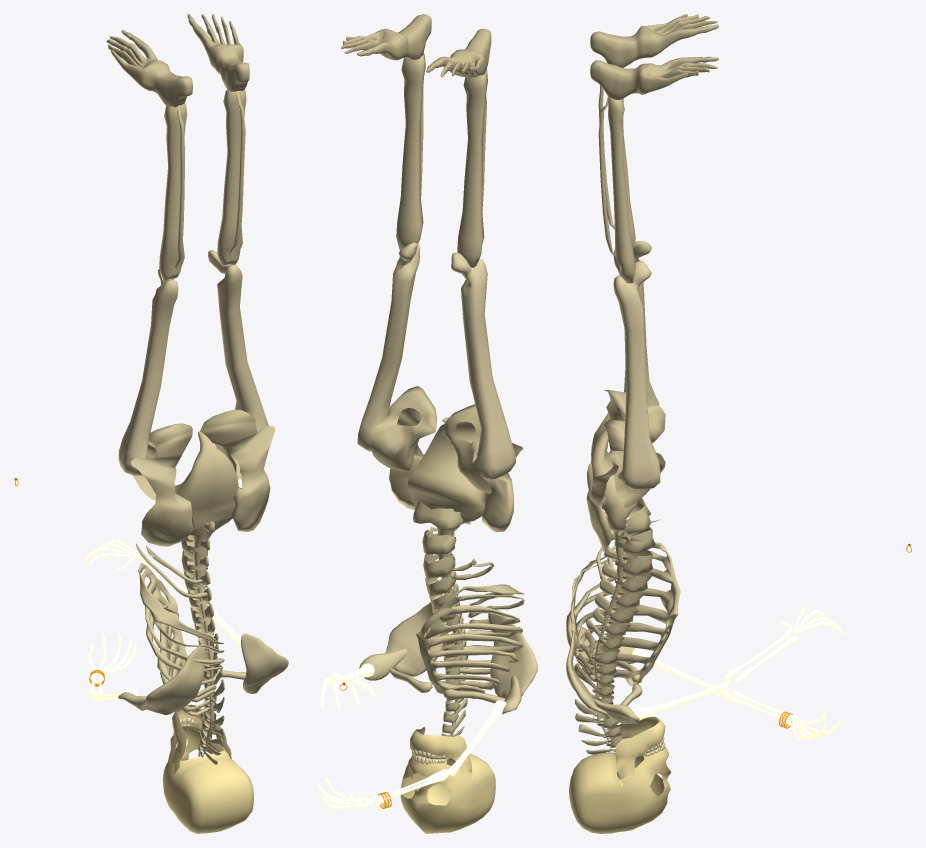
The model's file is skullwoEarth.gltf.
The picture shows the model from 3 angles, left to right: view 1: azimuth 30°, elevation 25°; view 2: azimuth 150°, elevation 25°; view 3: azimuth 270°, elevation 25°; orthographic projection. The views are drawn at different scales.
Parts seen in each view (by area): view 1: Ilium, Femur, Skull, Tibia, Feet, Rib Cage, spine, Clavicle And Shoulder, Spine2, Cubo.027, Cubo.046; view 2: Femur, Ilium, Tibia, Rib Cage, Skull, Clavicle And Shoulder, Spine2, spine, Feet, Cubo.046, Cubo.027; view 3: Skull, Spine2, Femur, Feet, Rib Cage, Tibia, Ilium, spine, Clavicle And Shoulder, Cubo.027, Cubo.046.
Boxes of the visible parts, left/top/right/bottom form: Ilium: left=130, top=409, right=275, bottom=546; Femur: left=118, top=250, right=268, bottom=475; Skull: left=162, top=704, right=253, bottom=833; Tibia: left=159, top=89, right=246, bottom=281; Feet: left=106, top=14, right=249, bottom=107; Rib Cage: left=136, top=543, right=224, bottom=716; spine: left=175, top=431, right=238, bottom=756; Clavicle And Shoulder: left=118, top=633, right=288, bottom=715; Spine2: left=181, top=521, right=224, bottom=764; Cubo.027: left=83, top=540, right=241, bottom=647; Cubo.046: left=88, top=635, right=137, bottom=701; Femur: left=357, top=242, right=515, bottom=480; Ilium: left=371, top=386, right=522, bottom=532; Tibia: left=396, top=53, right=487, bottom=267; Rib Cage: left=416, top=558, right=524, bottom=699; Skull: left=400, top=726, right=495, bottom=833; Clavicle And Shoulder: left=359, top=595, right=537, bottom=714; Spine2: left=413, top=501, right=470, bottom=736; spine: left=407, top=417, right=485, bottom=736; Feet: left=341, top=14, right=491, bottom=77; Cubo.046: left=317, top=700, right=506, bottom=809; Cubo.027: left=320, top=663, right=376, bottom=711; Skull: left=569, top=716, right=671, bottom=833; Spine2: left=574, top=498, right=655, bottom=755; Femur: left=613, top=241, right=660, bottom=489; Feet: left=590, top=14, right=718, bottom=99; Rib Cage: left=566, top=519, right=680, bottom=700; Tibia: left=598, top=85, right=635, bottom=283; Ilium: left=586, top=390, right=665, bottom=551; spine: left=591, top=429, right=637, bottom=753; Clavicle And Shoulder: left=566, top=608, right=642, bottom=723; Cubo.027: left=632, top=607, right=843, bottom=720; Cubo.046: left=632, top=648, right=840, bottom=739.
Bounding box in the file's own units: 38.16 × 187 × 74.21.
